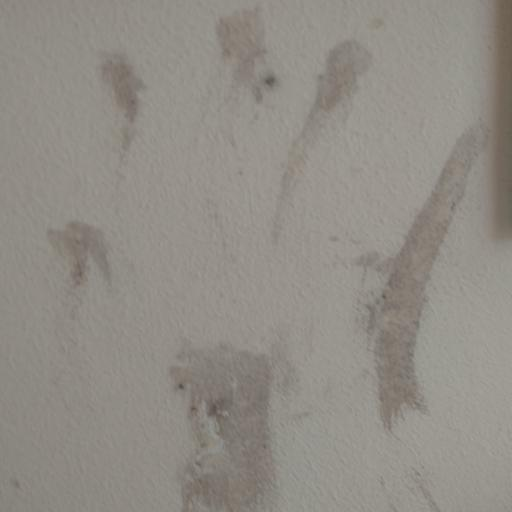stain: (359, 100, 512, 452), (157, 323, 323, 512), (271, 21, 386, 260), (59, 16, 174, 157), (32, 201, 146, 319), (200, 1, 284, 123), (381, 462, 478, 512)
